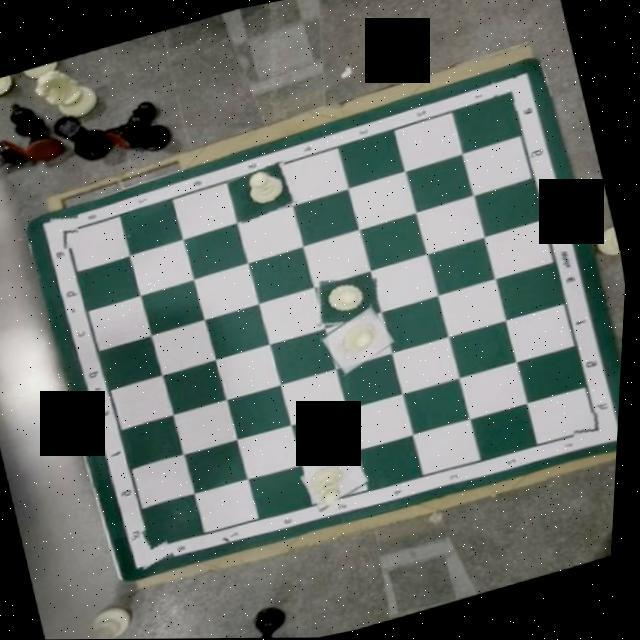chess-table-corners: (134, 522, 184, 576), (574, 407, 624, 452), (47, 208, 90, 255), (490, 73, 530, 118)
